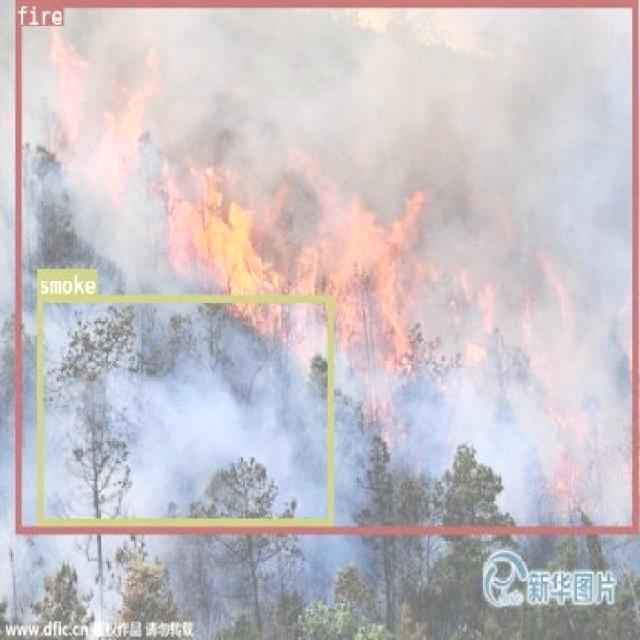fire: (13, 0, 635, 532)
smoke: (36, 294, 332, 524)
